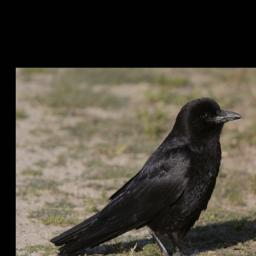Crow: (49, 96, 245, 256)
